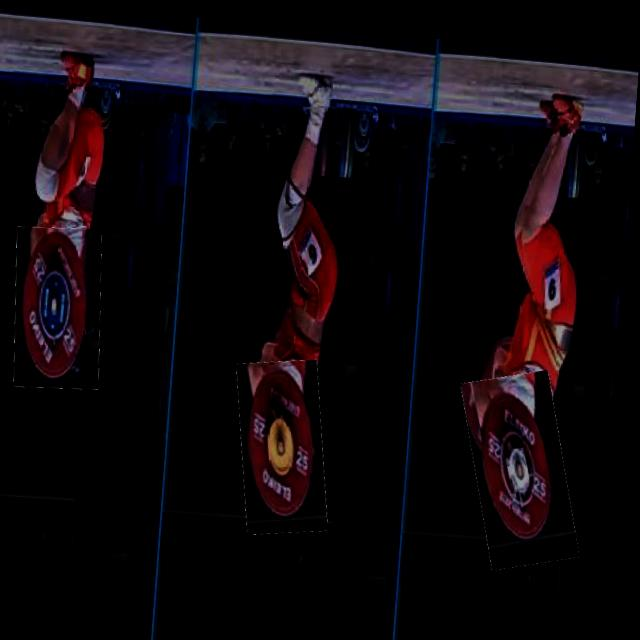barbell: (467, 359, 588, 562), (239, 351, 340, 533), (15, 225, 112, 392)
